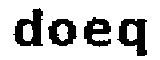d: (6, 6, 46, 50)
e: (82, 15, 113, 52)
o: (46, 16, 78, 49)
q: (114, 13, 149, 60)
